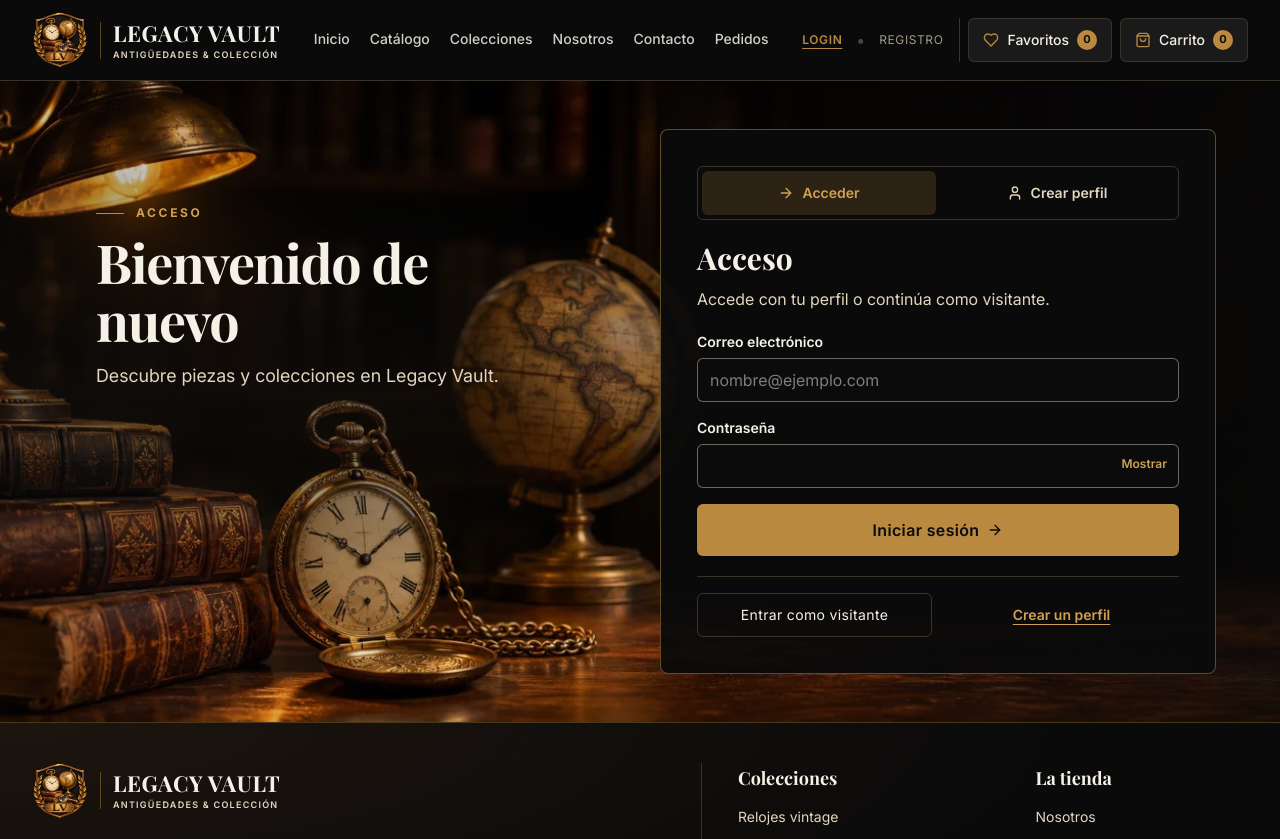
Test case: acceso demostrativo › permite entrar y salir como visitante sin crear almacenamiento
This screenshot has width=1280, height=839.
Click the button "Entrar como visitante": (814, 614) [697,592,932,636]
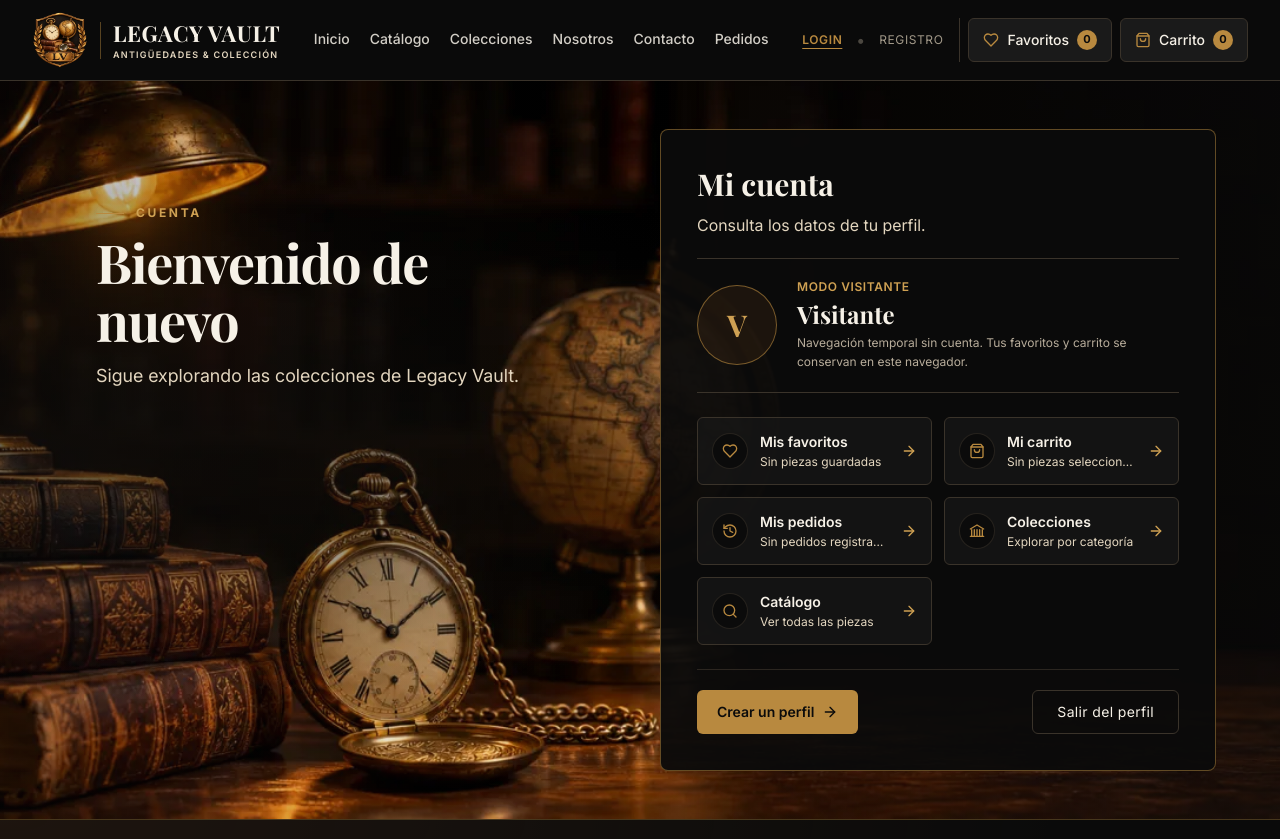
Expected: the text "Visitante" is shown, [797,298,895,330]
Click the button "Salir del perfil": (1106, 712) [1032,690,1179,734]
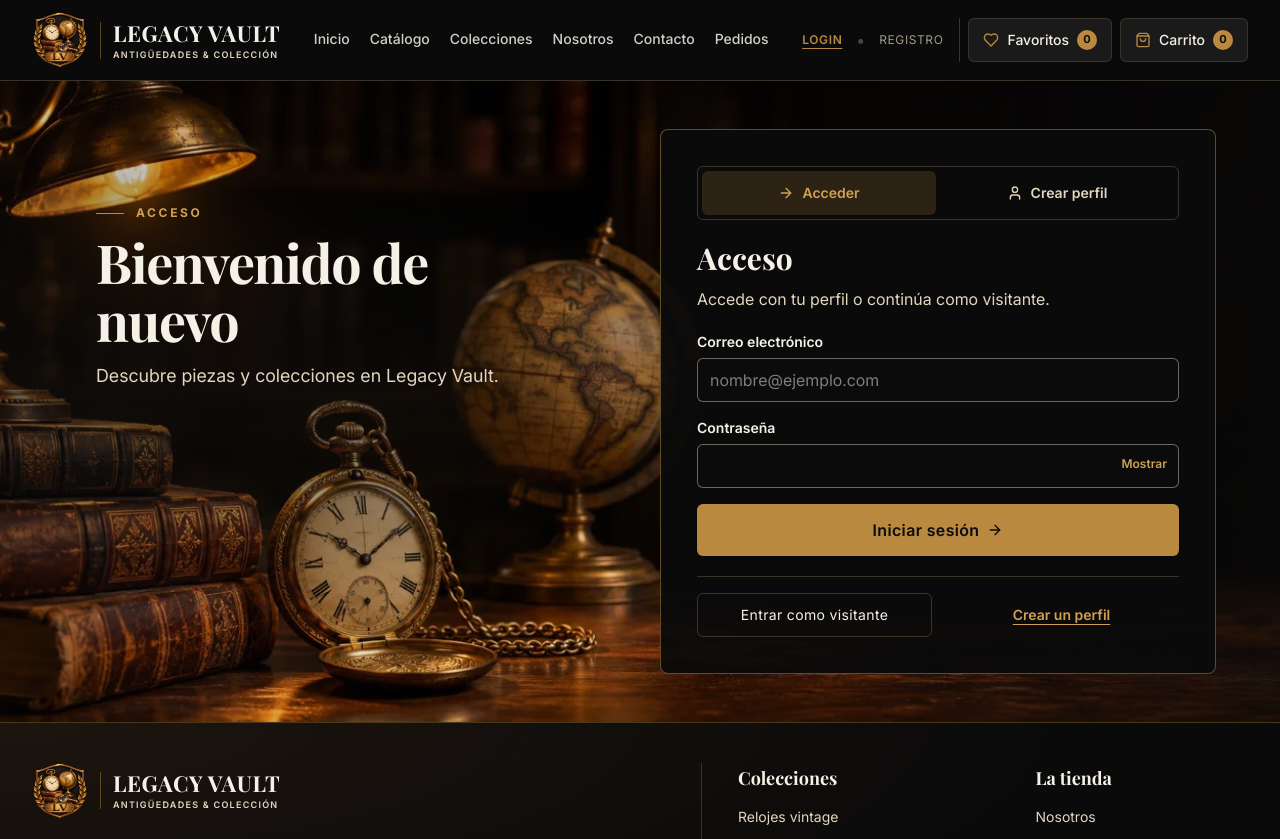
Expected: the button "Entrar como visitante" is shown, [697,592,932,636]
